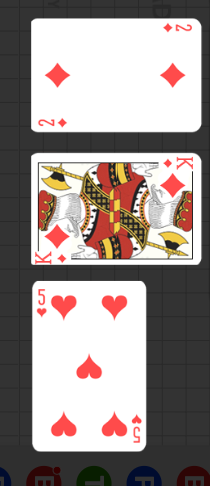2D: (161, 22, 193, 34)
5H: (35, 287, 48, 319), (130, 412, 143, 444)
